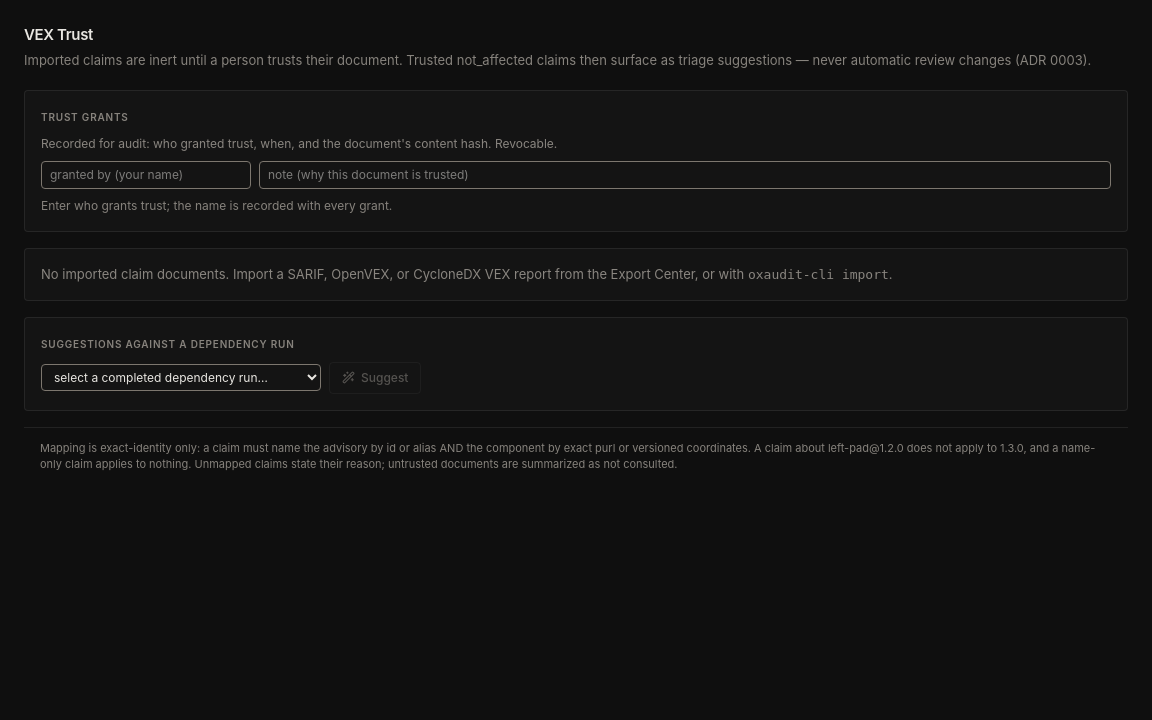
changing dependency runs clears completed suggestions
This screenshot has width=1152, height=720.
Select "/repo · 1/1/1970, 12:00:00 AM" in the dropdown named "Dependency run" at (181, 378), box [41,364,321,391]
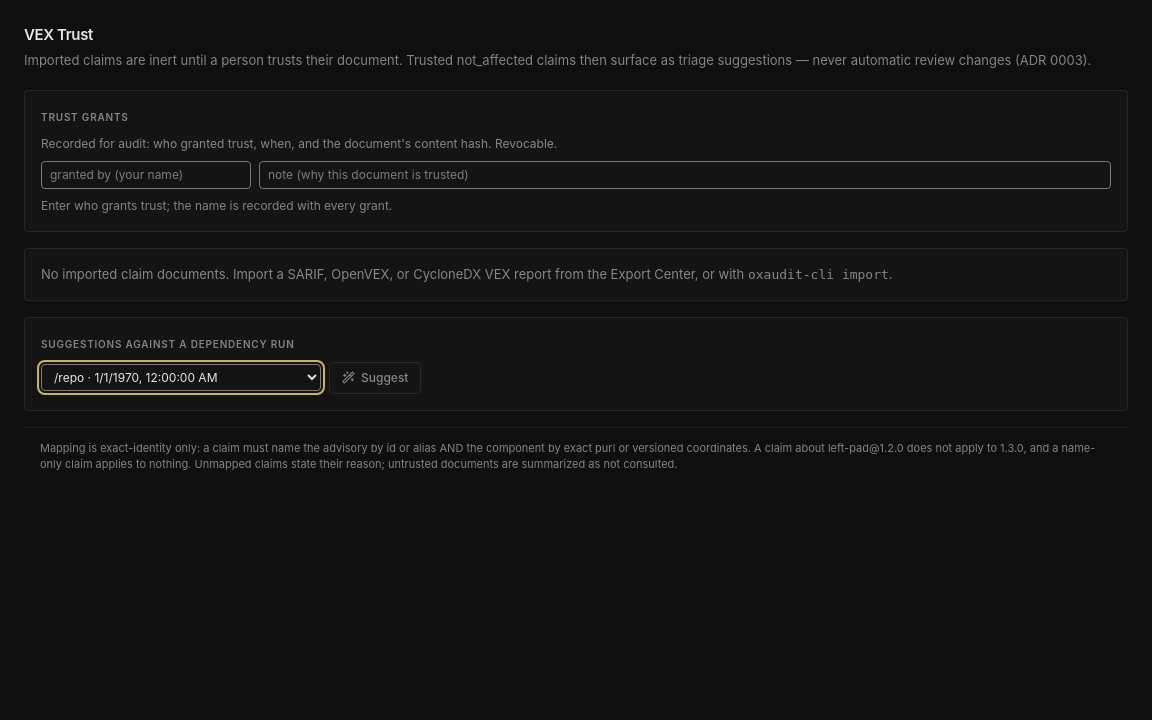
Click the button "Suggest" at (375, 378), box [329,362,421,394]
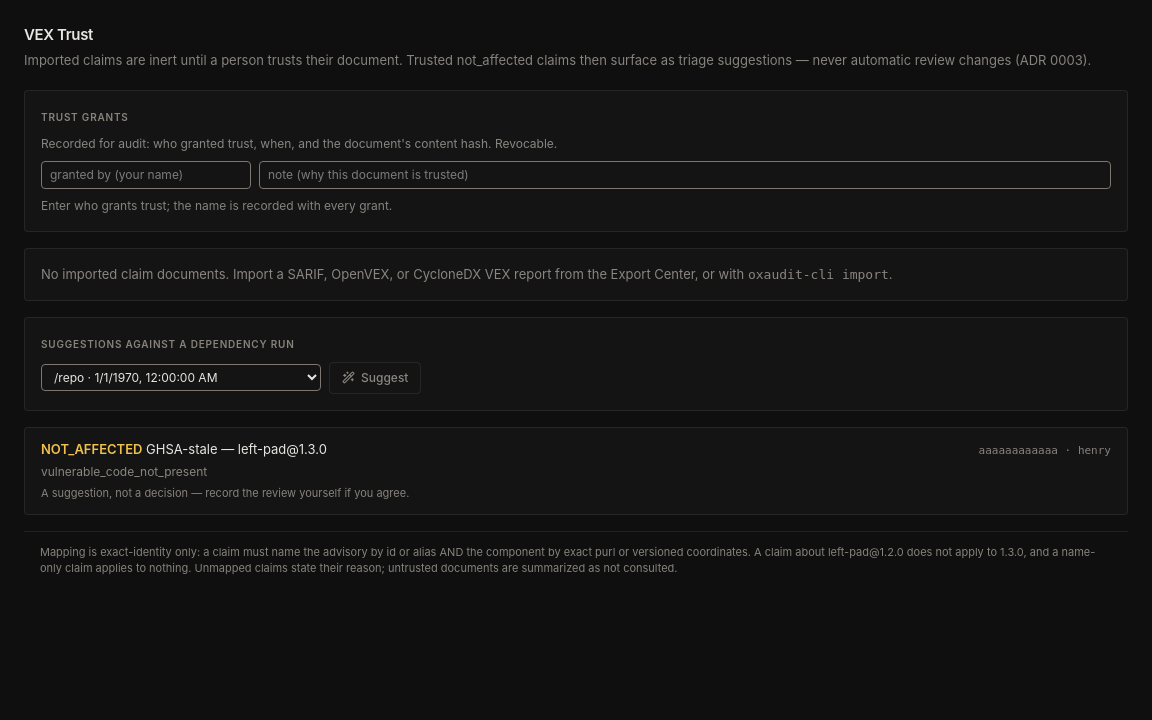
Result: the text "not_affected GHSA-stale — left-pad@1.3.0" is shown at [41,440,327,459]
Select "/other · 1/1/1970, 12:00:00 AM" in the dropdown named "Dependency run" at (181, 378), box [41,364,321,391]
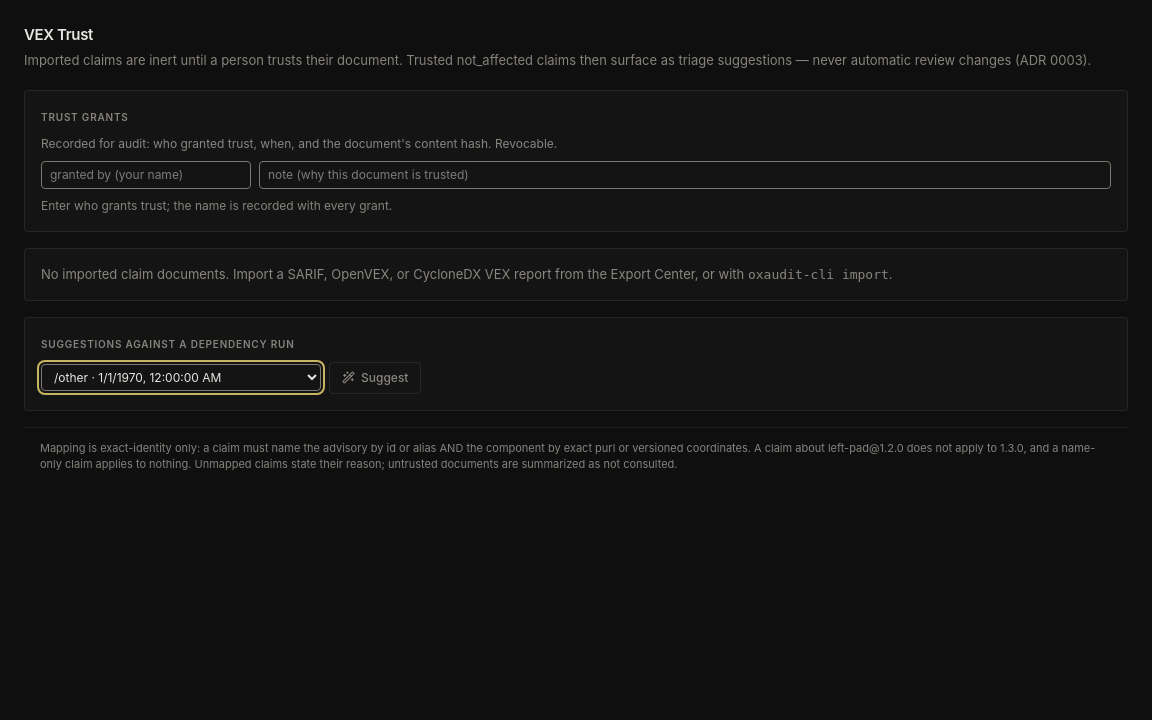
Result: the text "GHSA-stale" is gone
